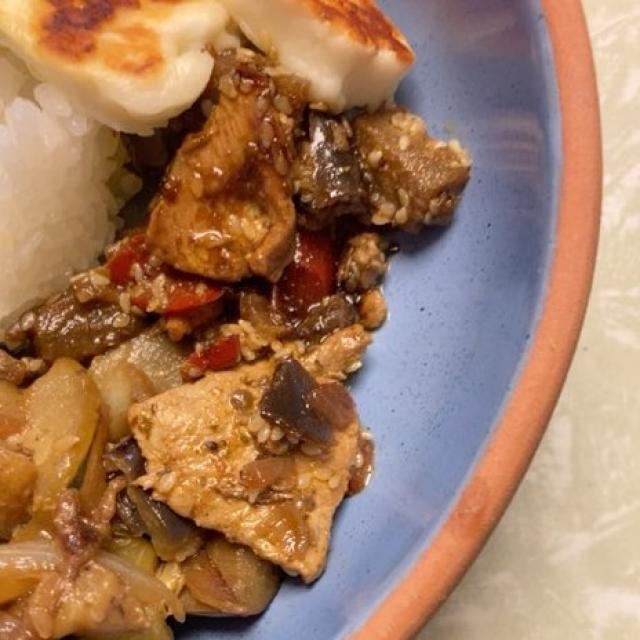bell-pepper-red-raw: (111, 223, 342, 382)
